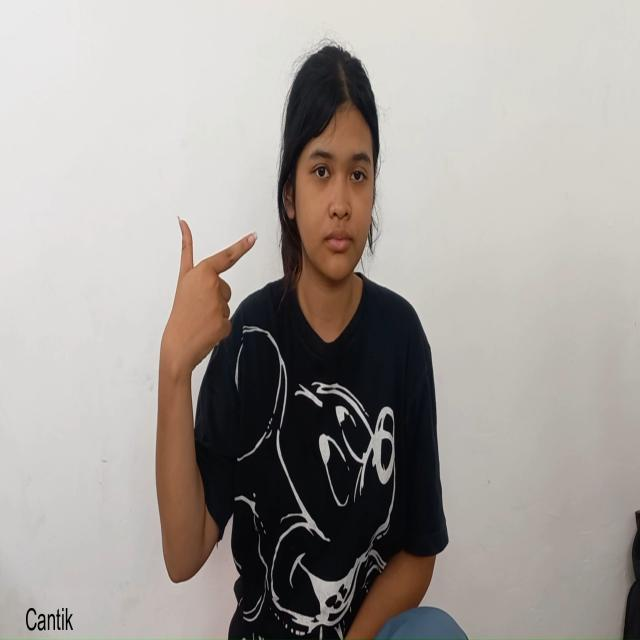Cantik -BISINDO-: (158, 43, 380, 391)
